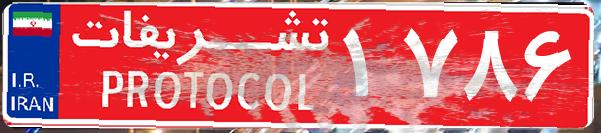1: (340, 20, 400, 115)
6: (520, 20, 580, 115)
7: (400, 20, 460, 115)
8: (460, 20, 520, 115)
تشریفات: (60, 8, 340, 125)
